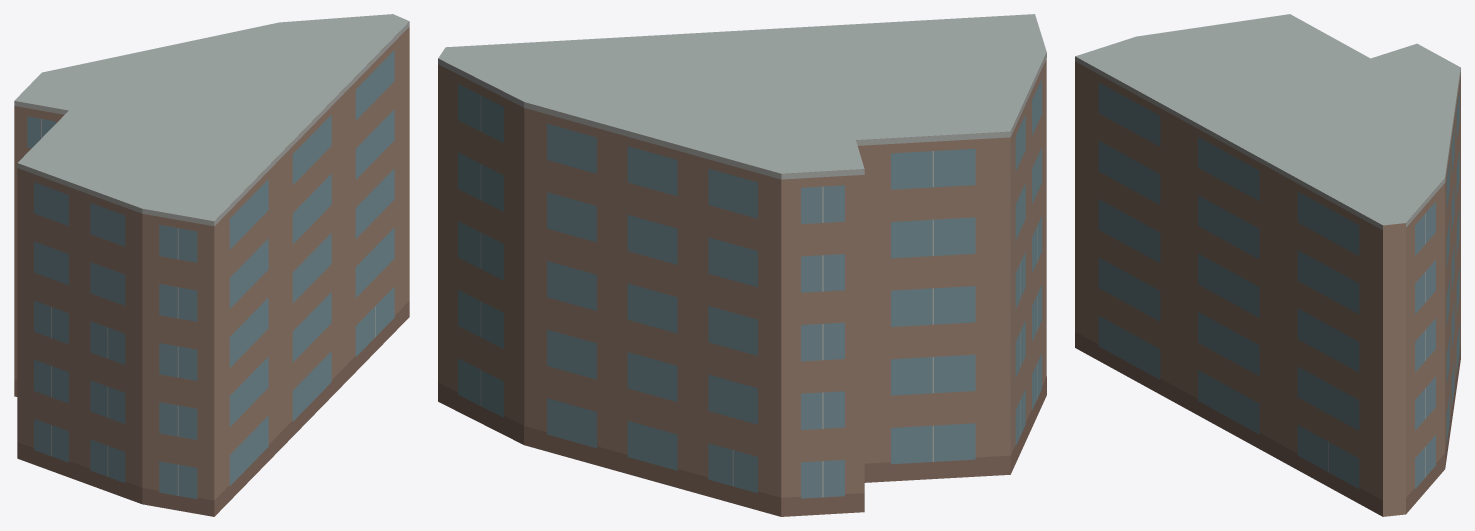
File: survey-upis-32621724.glb
3 renders of one model, left to right at view 1: azimuth 30°, elevation 25°; view 2: azimuth 150°, elevation 25°; view 3: azimuth 270°, elevation 25°, orthographic. The views are drawn at different scales.
Parts seen in each view (by area): view 1: survey-upis-32621724.tmp; view 2: survey-upis-32621724.tmp; view 3: survey-upis-32621724.tmp.
Boxes of the visible parts, bbox=[...] form: survey-upis-32621724.tmp: bbox=[14, 14, 409, 516]; survey-upis-32621724.tmp: bbox=[438, 14, 1046, 516]; survey-upis-32621724.tmp: bbox=[1075, 14, 1460, 516].
Bounding box in the file's own units: 22.26 × 14.3 × 17.16.
